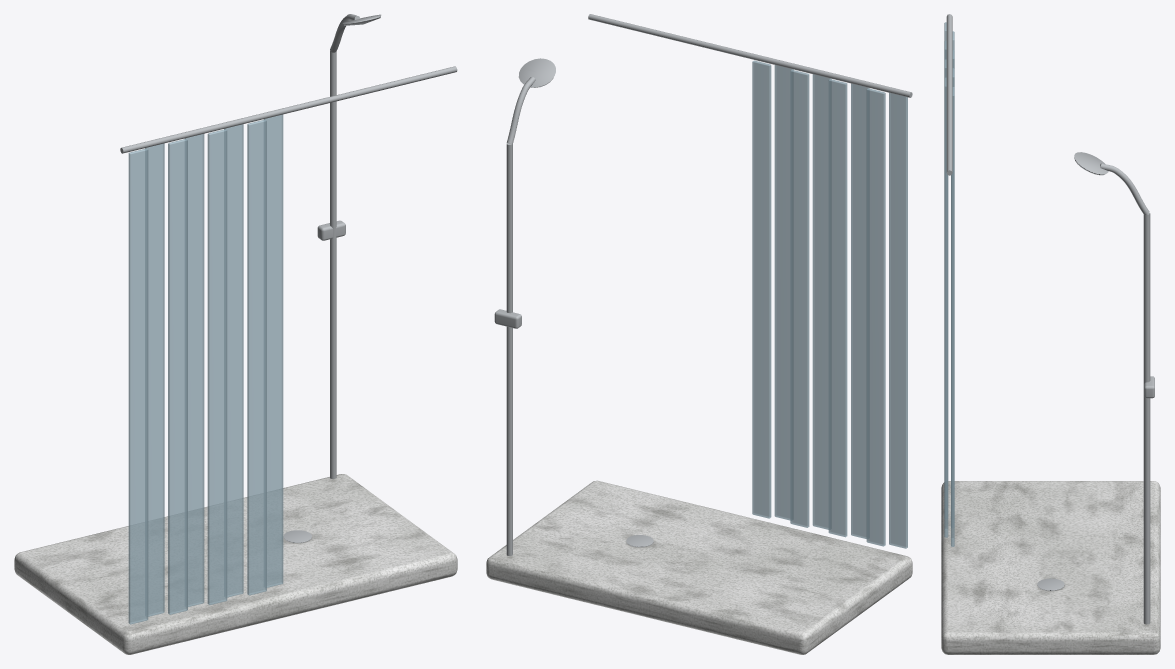
The model's file is lazienka_prysznic.glb.
3 renders of one model, left to right at view 1: azimuth 30°, elevation 25°; view 2: azimuth 150°, elevation 25°; view 3: azimuth 270°, elevation 25°, orthographic. The views are drawn at different scales.
Parts seen in each view (by area): view 1: Zaslona, Brodzik, Chrom; view 2: Zaslona, Brodzik, Chrom; view 3: Brodzik, Chrom, Zaslona.
Part boxes in pixels (x1,y1,x2,y2): Zaslona: [128, 114, 283, 624]; Brodzik: [14, 474, 457, 654]; Chrom: [120, 14, 457, 543]; Zaslona: [752, 60, 907, 548]; Brodzik: [486, 480, 912, 654]; Chrom: [494, 14, 912, 555]; Brodzik: [941, 481, 1160, 654]; Chrom: [946, 14, 1154, 624]; Zaslona: [944, 22, 954, 546].
Size of the model in its own units: 1.35 by 1.98 by 0.8.
Materials: 3 (1 with a texture image).
